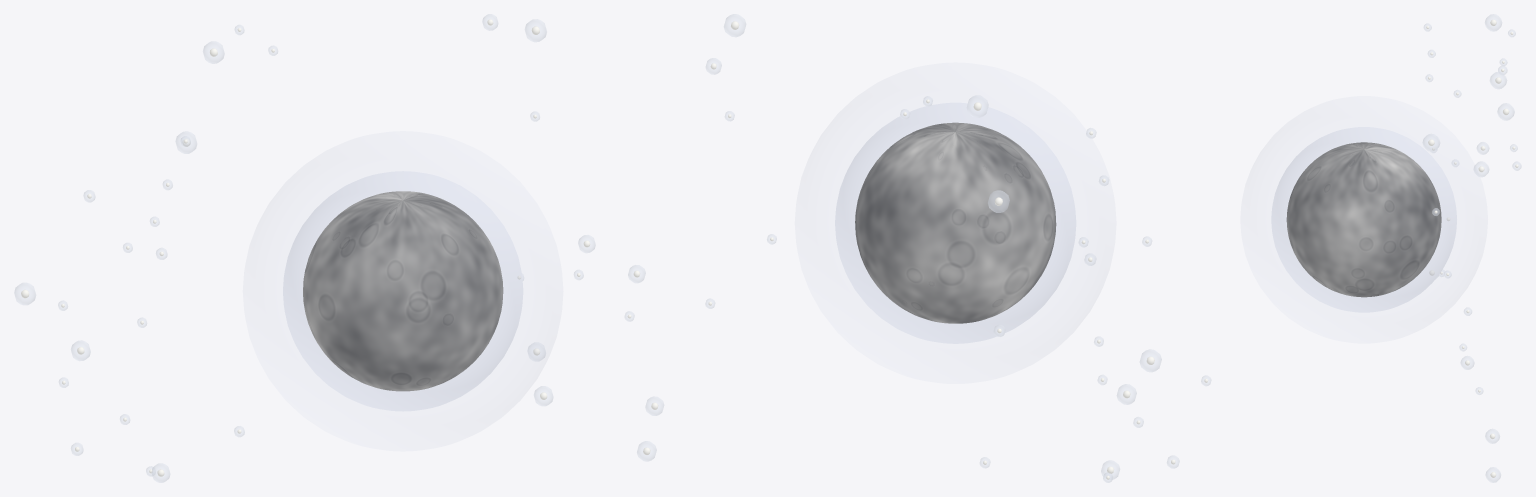
Rendered from fx3d-w-night.glb.
3 renders of one model, left to right at view 1: azimuth 30°, elevation 25°; view 2: azimuth 150°, elevation 25°; view 3: azimuth 270°, elevation 25°, orthographic. The views are drawn at different scales.
Parts seen in each view (by area): view 1: mh24, mh18, moon; view 2: mh24, mh18, moon; view 3: mh24, mh18, moon.
Part boxes in pixels (left/top/right/bottom): mh24: left=243, top=131, right=562, bottom=450; mh18: left=283, top=171, right=522, bottom=411; moon: left=303, top=191, right=503, bottom=391; mh24: left=795, top=63, right=1115, bottom=383; mh18: left=835, top=103, right=1075, bottom=343; moon: left=855, top=122, right=1056, bottom=323; mh24: left=1241, top=96, right=1487, bottom=342; mh18: left=1271, top=127, right=1456, bottom=312; moon: left=1286, top=142, right=1441, bottom=297.
Bounding box in the file's own units: 0.9641 × 0.7327 × 0.5451.
Materials: 5 (1 with a texture image).
